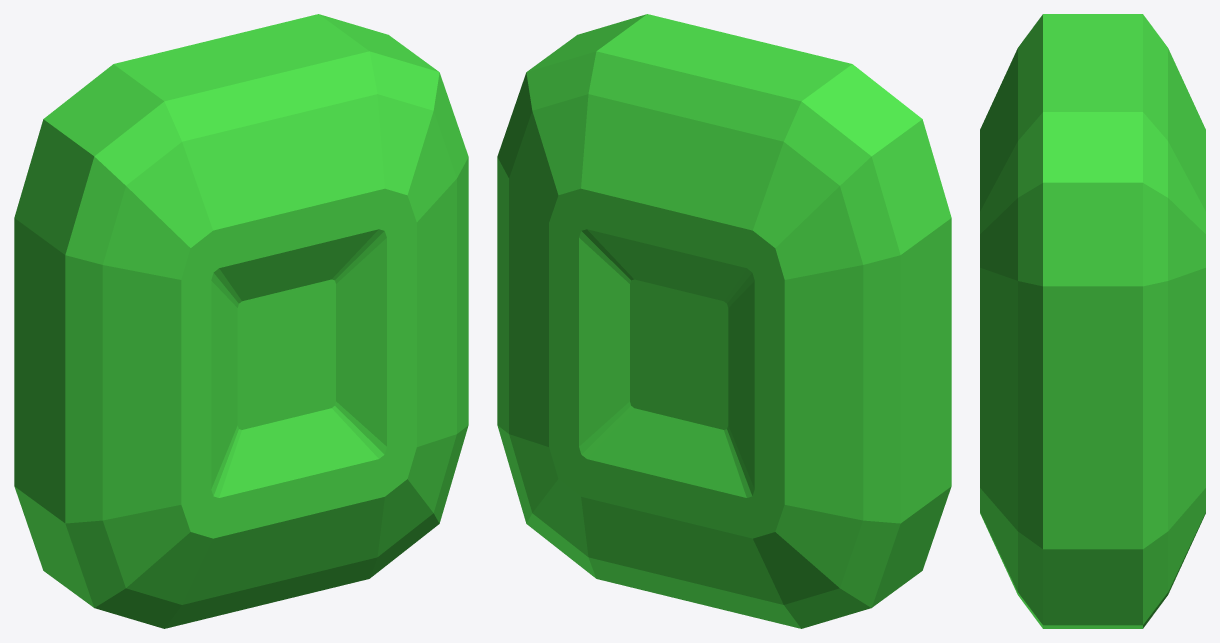
The model's file is GreenGem.fbx.
3 renders of one model, left to right at view 1: azimuth 30°, elevation 25°; view 2: azimuth 150°, elevation 25°; view 3: azimuth 270°, elevation 25°, orthographic. The views are drawn at different scales.
Parts seen in each view (by area): view 1: Cube; view 2: Cube; view 3: Cube.
Part boxes in pixels (box(x1,y1,x2,y2)): Cube: box(14, 14, 468, 628); Cube: box(497, 14, 951, 628); Cube: box(980, 14, 1205, 628).
Bounding box in the file's own units: 160 × 200 × 79.15.
